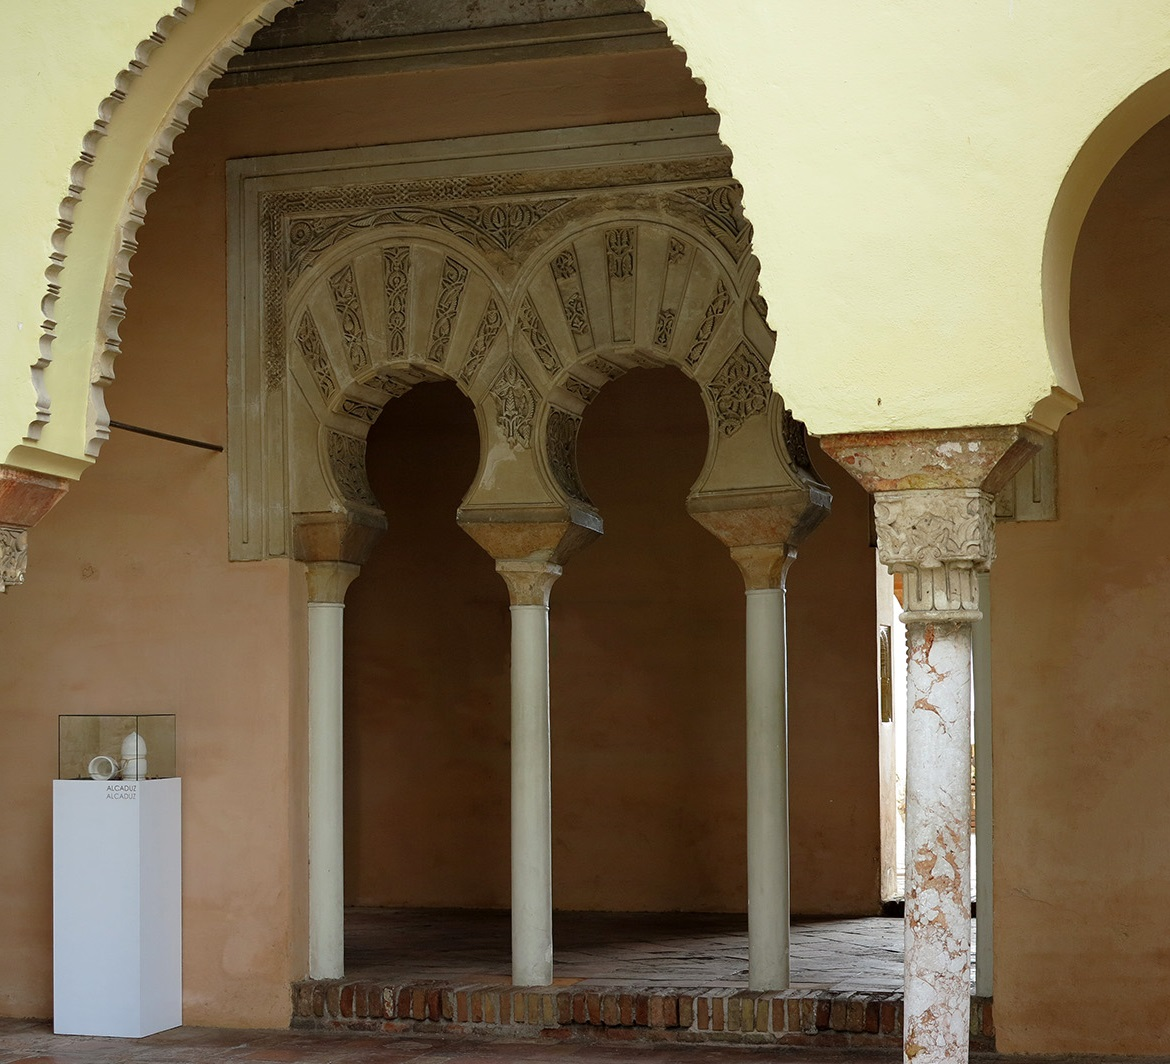arco-herradura: (529, 337, 743, 544), (308, 352, 504, 551)
